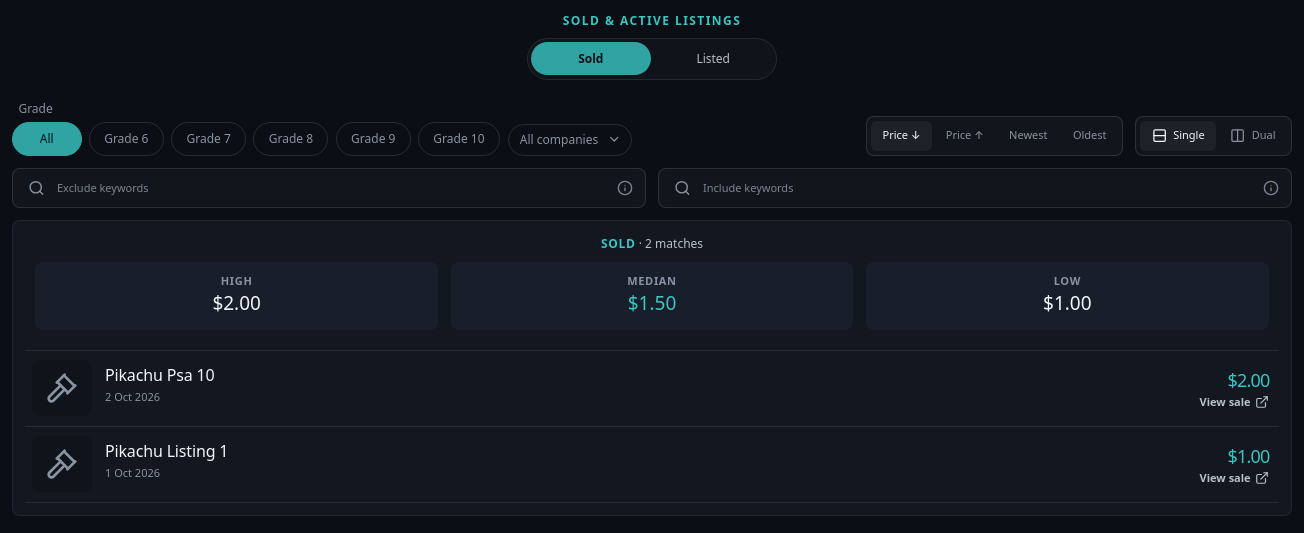
Test: updates the result count when filtering by grade
Expected: the message reads "Sold · 2 matches", [601,234,703,252]
Click the radio button labelled "Grade 10": point(459, 139) [418,122,500,156]
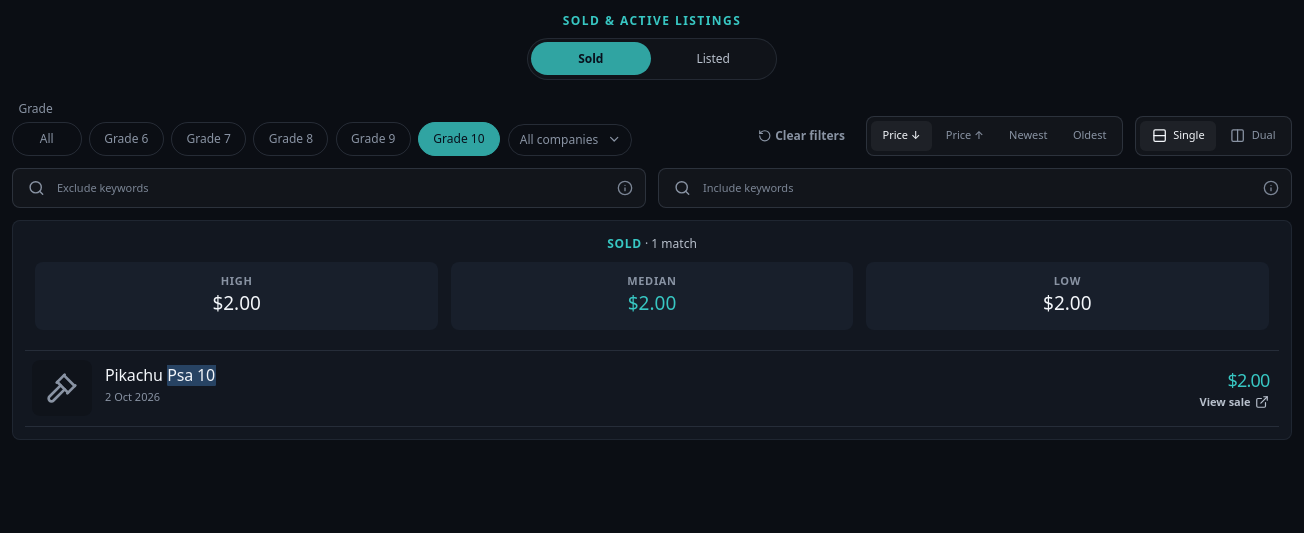
Result: the message reads "Sold · 1 match" at [607,234,697,252]
